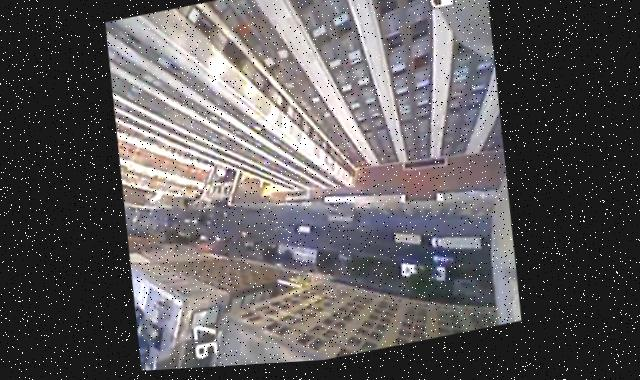car: (292, 224, 315, 243)
truck: (427, 228, 487, 268), (388, 226, 428, 259)
